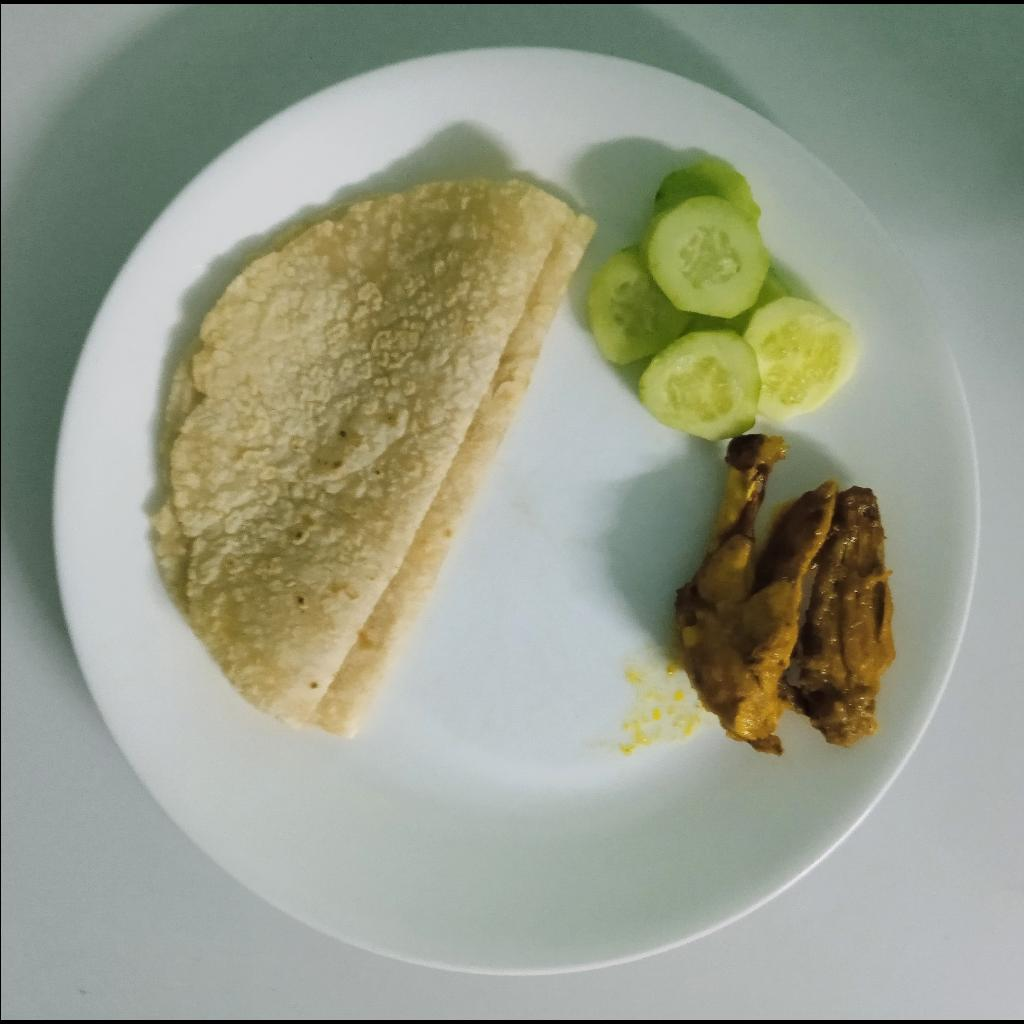chicken: (671, 433, 897, 753)
cucumber: (584, 156, 864, 445)
ruti: (140, 179, 594, 746)
